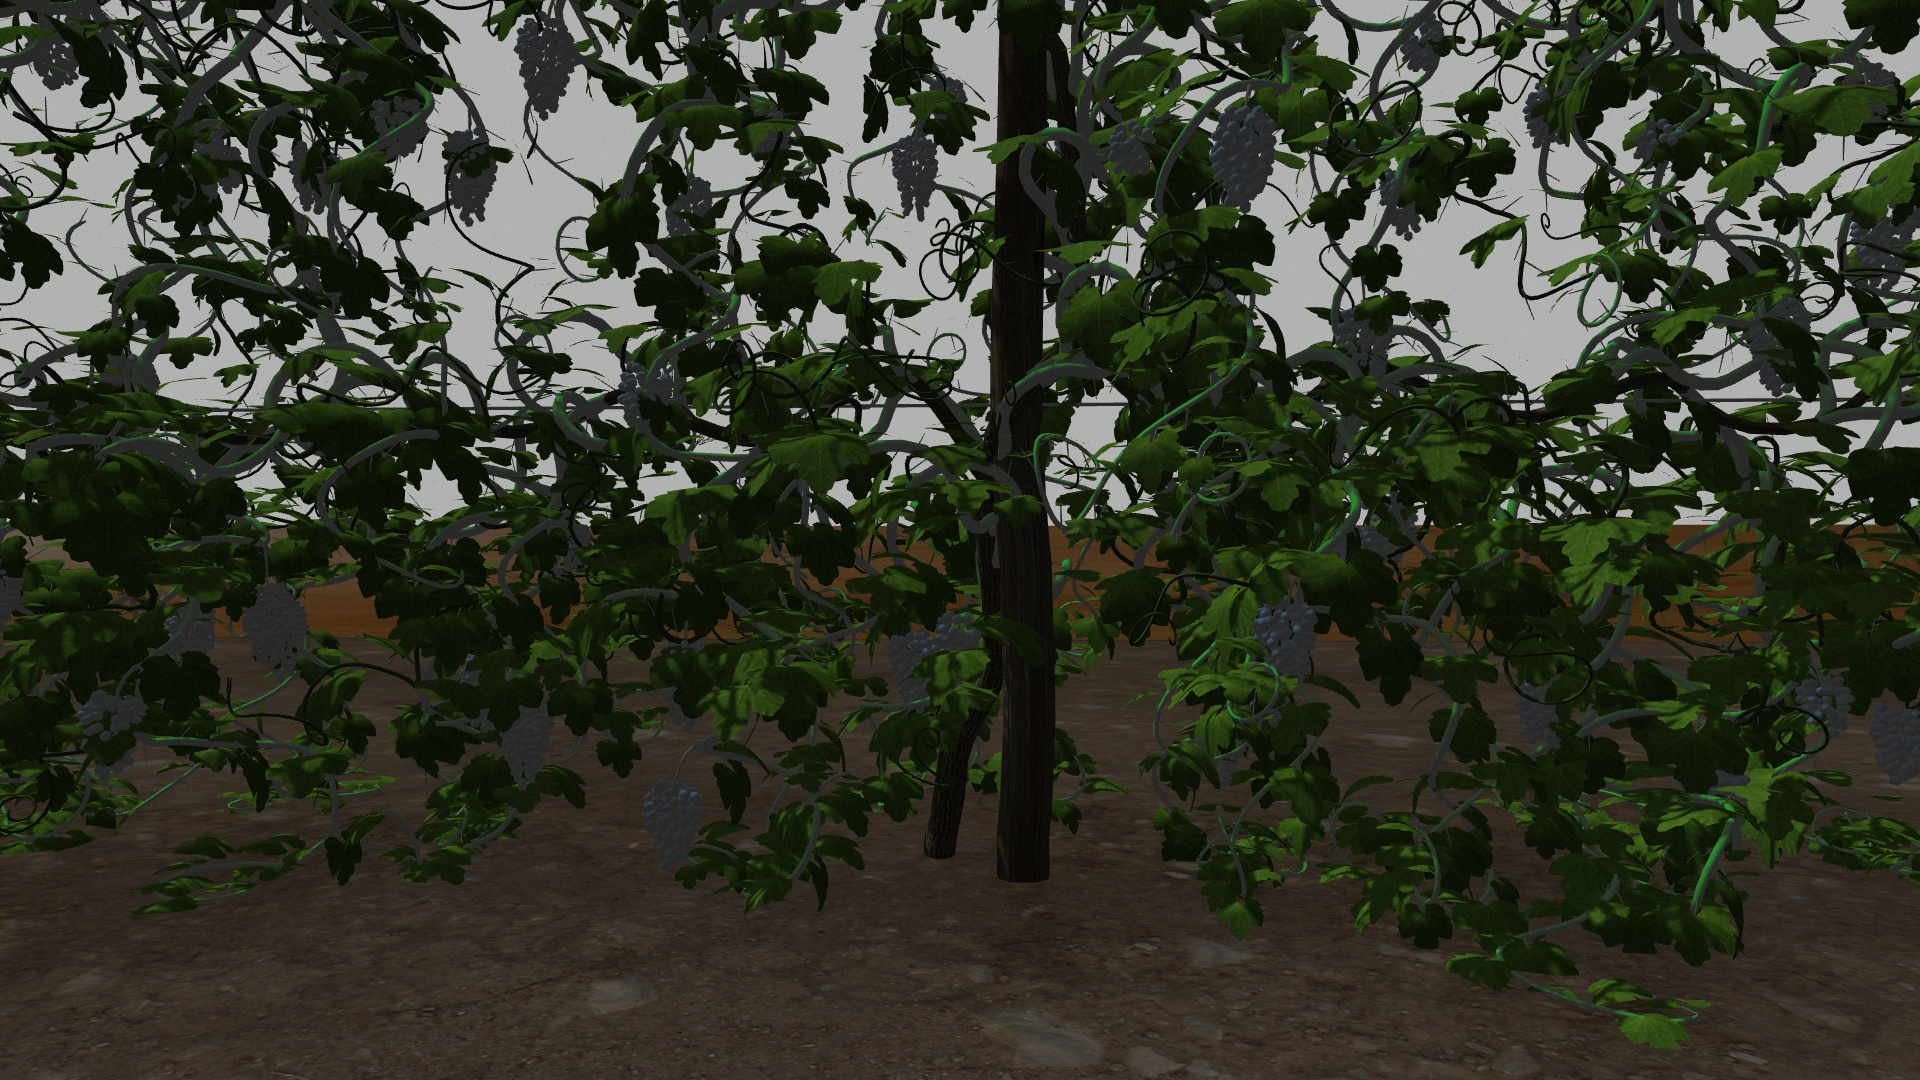grape: (1211, 95, 1276, 214), (243, 580, 311, 676), (514, 18, 578, 123), (439, 131, 500, 229), (79, 692, 144, 778), (1255, 593, 1319, 679), (644, 781, 704, 868), (498, 696, 553, 794), (1842, 214, 1909, 291), (1867, 694, 1913, 793), (1509, 678, 1571, 750), (1797, 669, 1854, 745), (890, 135, 939, 222), (616, 357, 675, 429), (1336, 309, 1395, 377), (25, 29, 83, 92), (372, 95, 430, 157), (886, 630, 938, 698), (665, 173, 717, 237), (166, 603, 218, 659), (1400, 12, 1445, 76), (1109, 117, 1156, 174), (1631, 117, 1684, 162), (934, 611, 981, 657)
